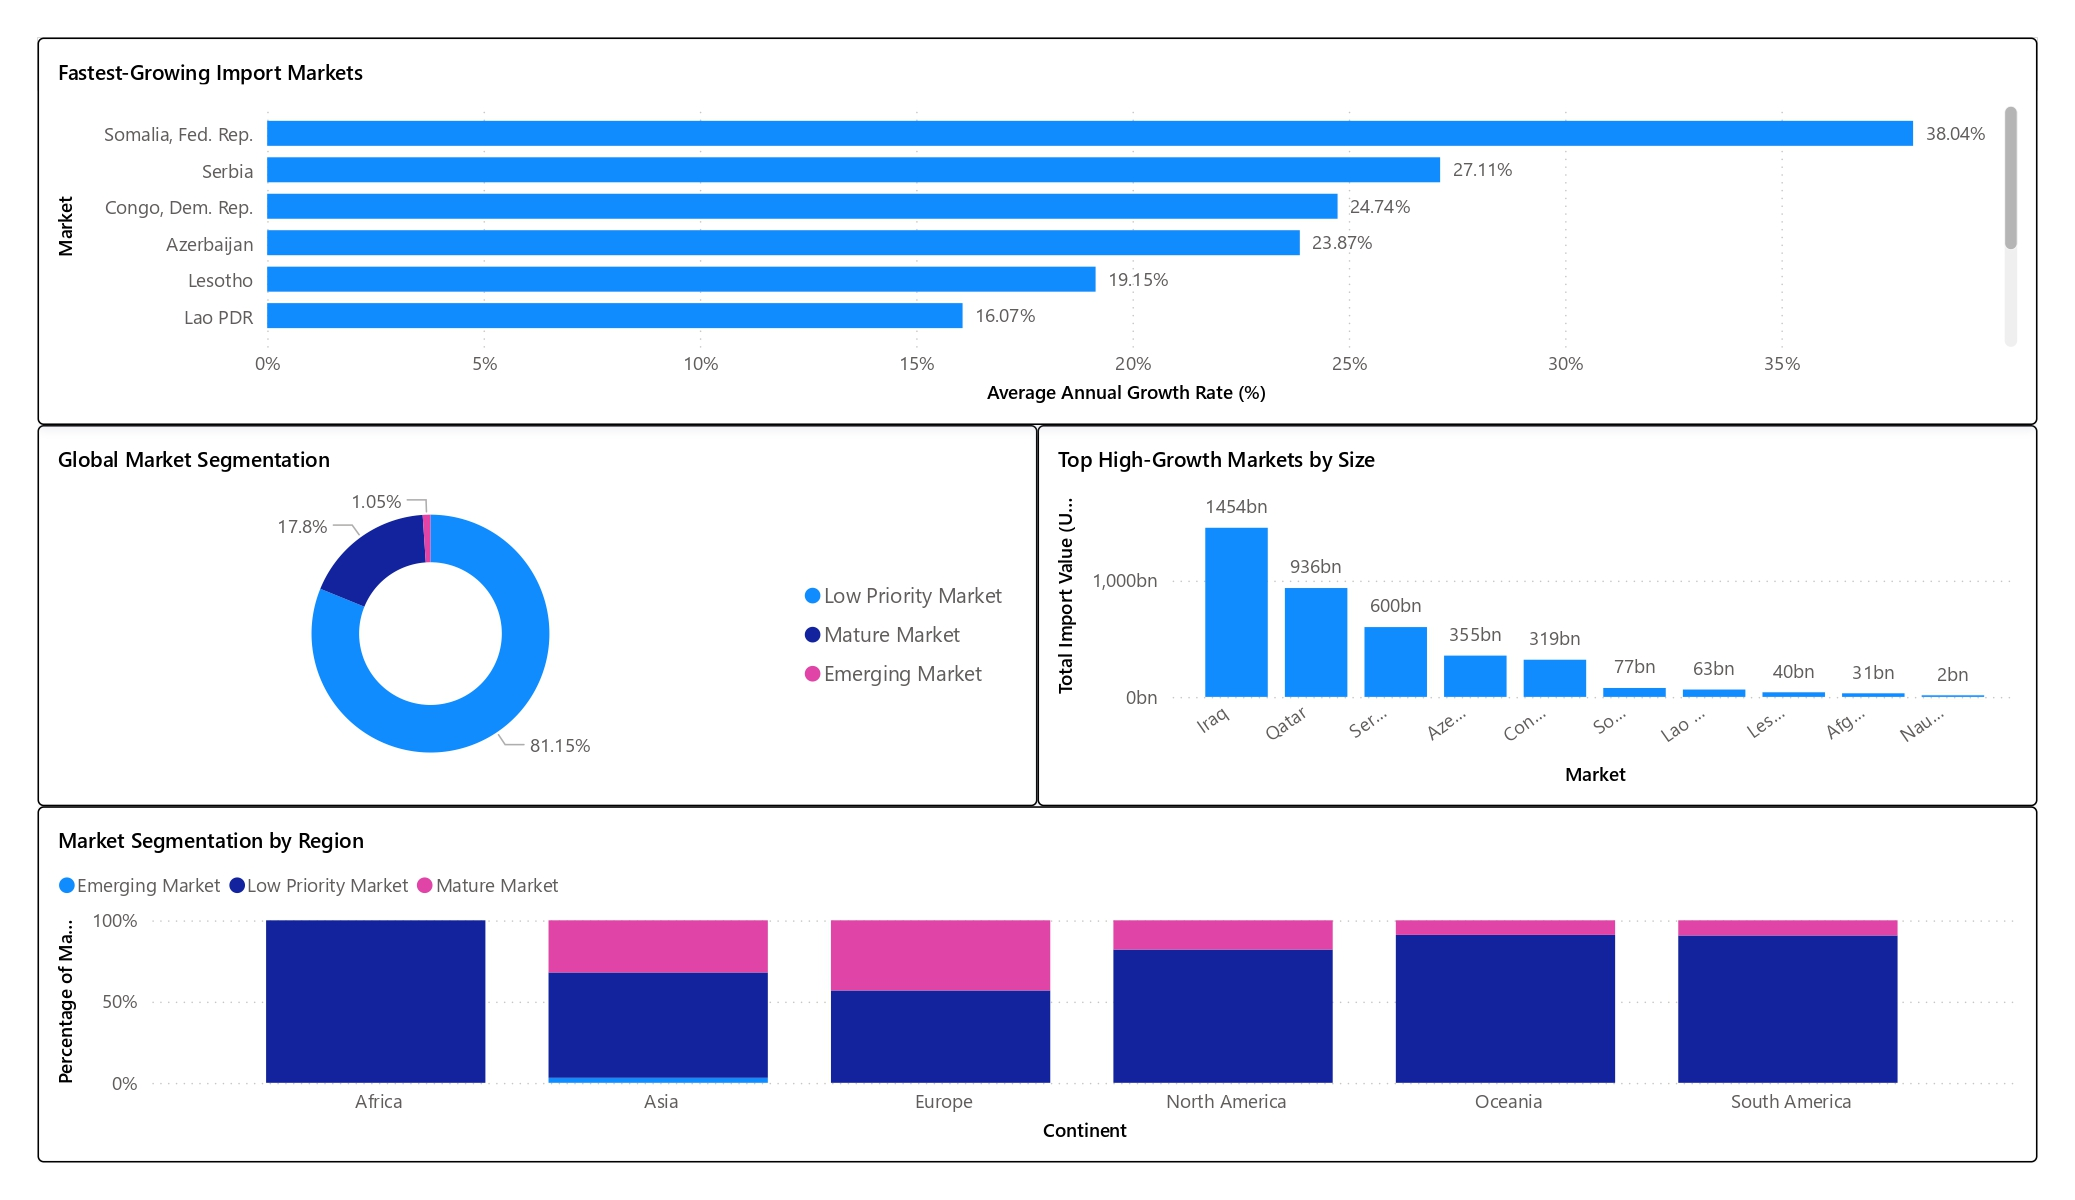

Layout of this report page (visuals, bound fields, positions):
{"tool":"powerbi","page":{"name":"Page 2","canvas":[1280,720],"ordinal":1},"visuals":[{"type":"donutChart","title":"Global Market Segmentation","fields":{"Category":["country_opportunity.market_category"],"Y":["CountNonNull(country_opportunity.Country)"]},"box":[0,248.3,640,243.3],"z":1000},{"type":"clusteredColumnChart","title":"Top High-Growth Markets by Size","fields":{"Category":["country_opportunity.Country"],"Y":["Sum(country_opportunity.total_imports)"]},"box":[640,248.3,640,243.3],"z":2000},{"type":"hundredPercentStackedColumnChart","title":"Market Segmentation by Region","fields":{"Category":["global_imports_final.Continent"],"Series":["global_imports_final.market_category"],"Y":["CountNonNull(global_imports_final.Country)"]},"box":[0,491.7,1280,228.3],"z":3000},{"type":"clusteredBarChart","title":"Fastest-Growing Import Markets","fields":{"Category":["country_opportunity.Country"],"Y":["Avg(country_opportunity.avg_growth)"]},"box":[0,0,1280,248],"z":3001}]}

Visuals, with their boxes on the page's 1280x720 design canvas (x1, y1, x2, y2). These are canvas units, not pixel positions in the 2075x1200 screenshot, which may show the page scaled, cropped or inside an application window:
"Global Market Segmentation" donutChart: left=0, top=248, right=640, bottom=492
"Top High-Growth Markets by Size" clusteredColumnChart: left=640, top=248, right=1280, bottom=492
"Market Segmentation by Region" hundredPercentStackedColumnChart: left=0, top=492, right=1280, bottom=720
"Fastest-Growing Import Markets" clusteredBarChart: left=0, top=0, right=1280, bottom=248
